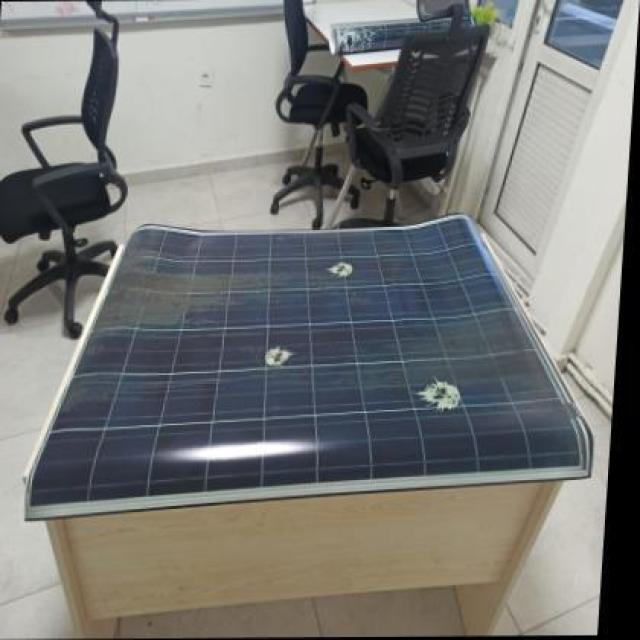soiled: (28, 215, 592, 492)
